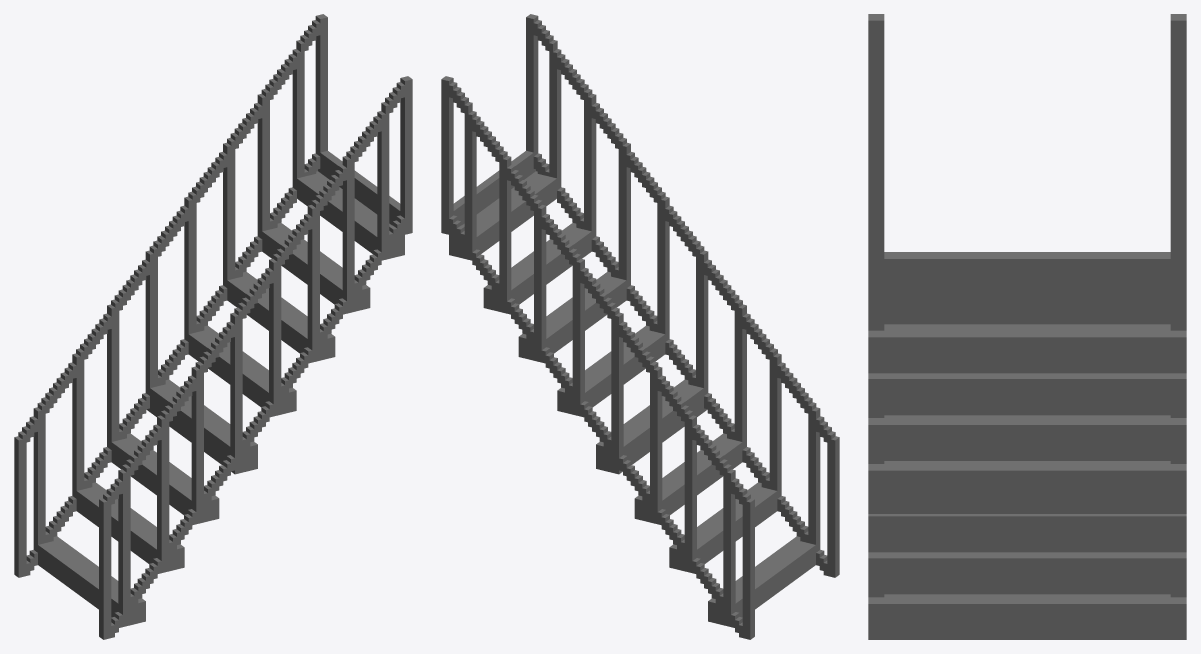
File: motel-1.obj
The picture shows the model from 3 angles, left to right: view 1: azimuth 30°, elevation 25°; view 2: azimuth 150°, elevation 25°; view 3: azimuth 270°, elevation 25°; orthographic projection. The views are drawn at different scales.
Bounding box in the file's own units: 8 × 12 × 4.
1 material, 1 textured.
